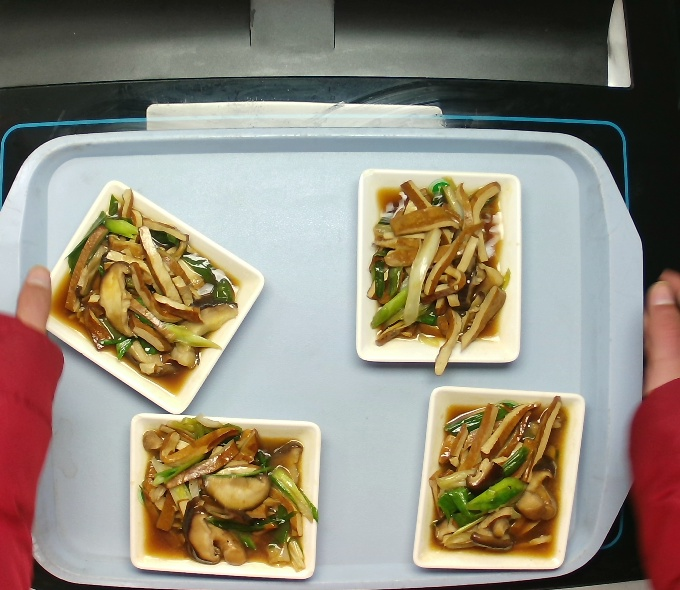wcq-XiangGuChaoXiangGan: (51, 191, 246, 396), (138, 420, 305, 566), (367, 179, 507, 347), (428, 395, 568, 556)
